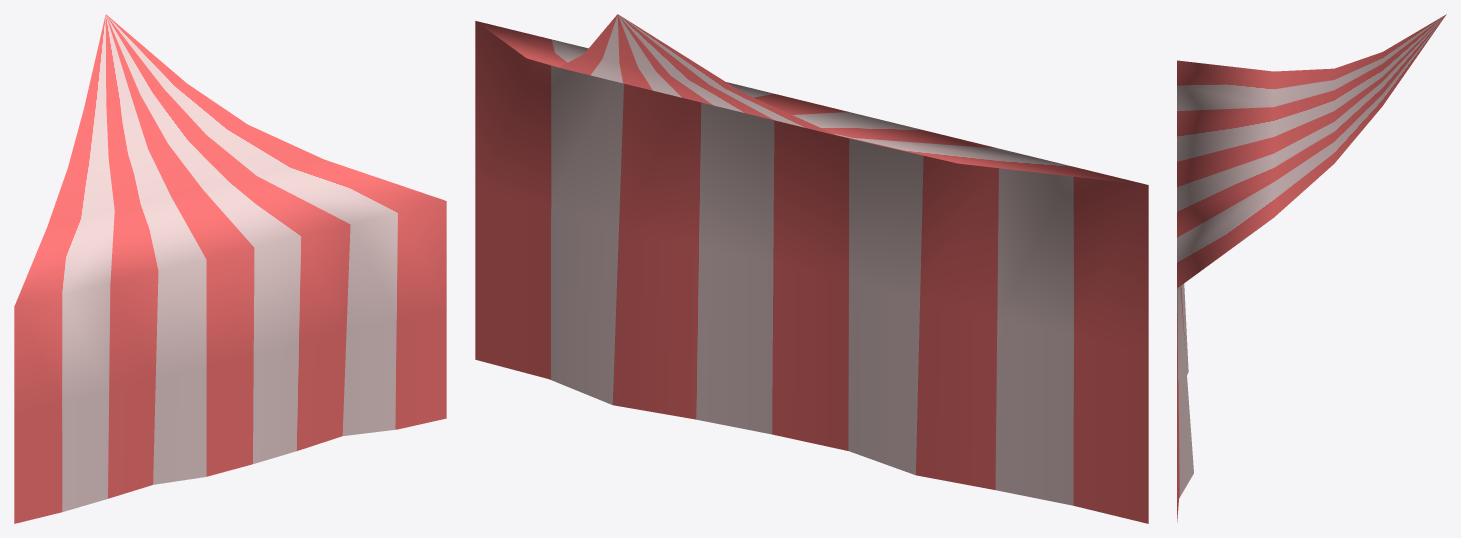
File: SM_Wall.fbx
3 renders of one model, left to right at view 1: azimuth 30°, elevation 25°; view 2: azimuth 150°, elevation 25°; view 3: azimuth 270°, elevation 25°, orthographic. The views are drawn at different scales.
Visible parts, largest first — view 1: SM_wall; view 2: SM_wall; view 3: SM_wall.
Boxes of the visible parts, x1,y1,x2,y2 form: SM_wall: [14, 14, 446, 523]; SM_wall: [475, 14, 1148, 523]; SM_wall: [1177, 14, 1446, 522].
Bounding box in the file's own units: 727 × 589 × 364.
